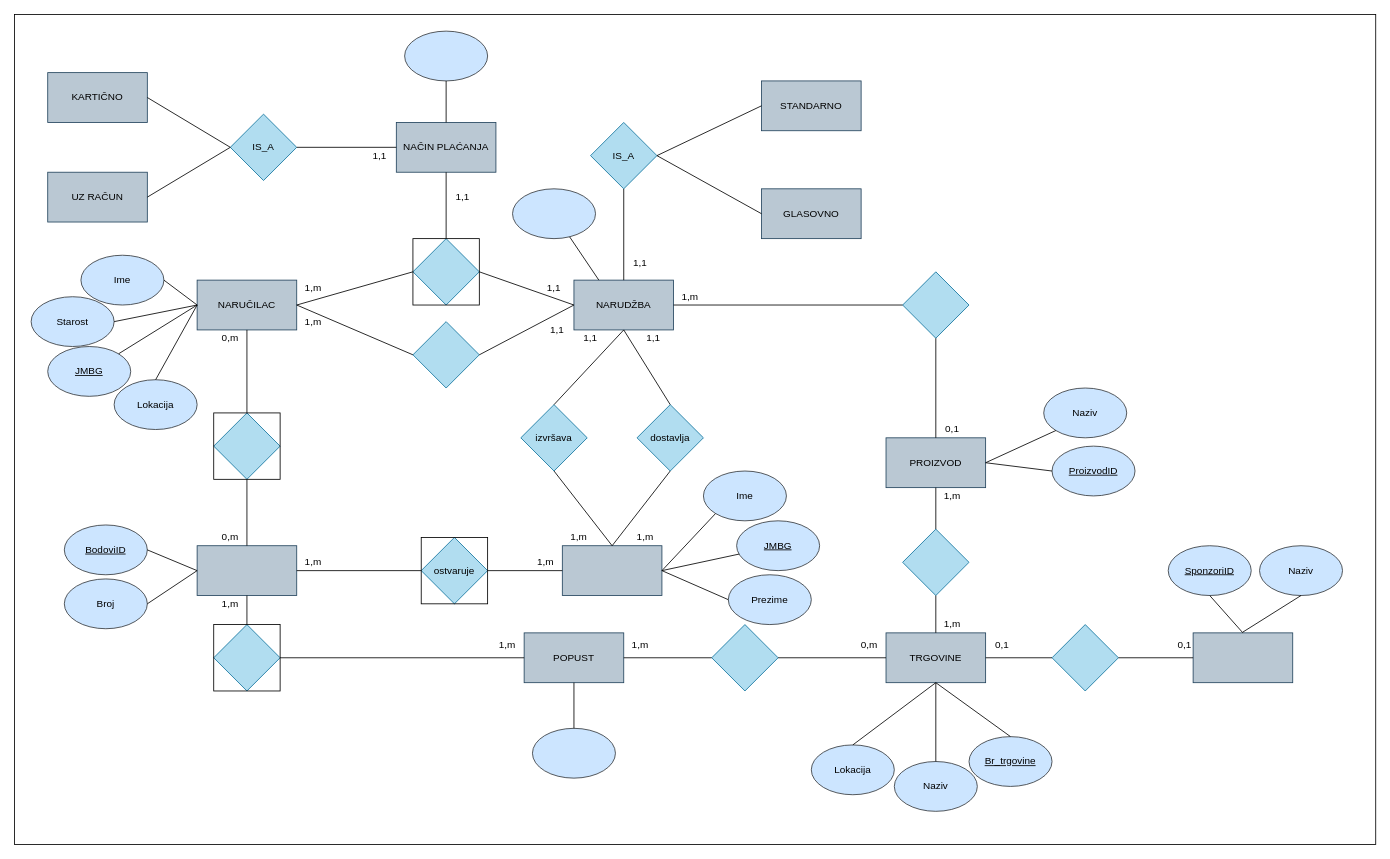
This 1390x859 diagram has some shape labels left out. The shapes that lost their labels are listed below. From the top down, each one's centre as x and y in pixels, then its label:
At (446,55): "NacinpID".
At (554,213): "NarudžbaID".
At (445,271): "plaća".
At (935,304): "se_sastoji".
At (445,354): "pravi".
At (246,445): "skuplja".
At (246,570): "BODOVI".
At (611,570): "DOSTAVLJAČ".
At (935,562): "unosi".
At (246,657): "osiguravaju".
At (744,657): "daju".
At (1084,657): "su".
At (1242,657): "SPONZORI".
At (573,752): "PopustID".
